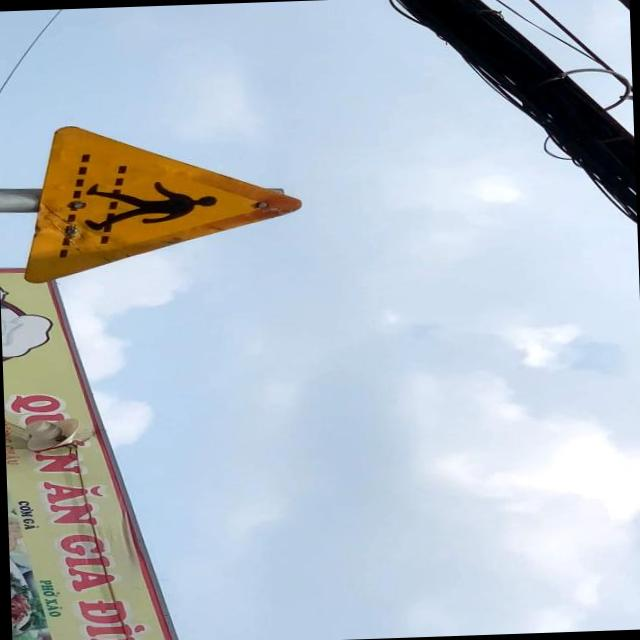W-224: (19, 120, 304, 284)
